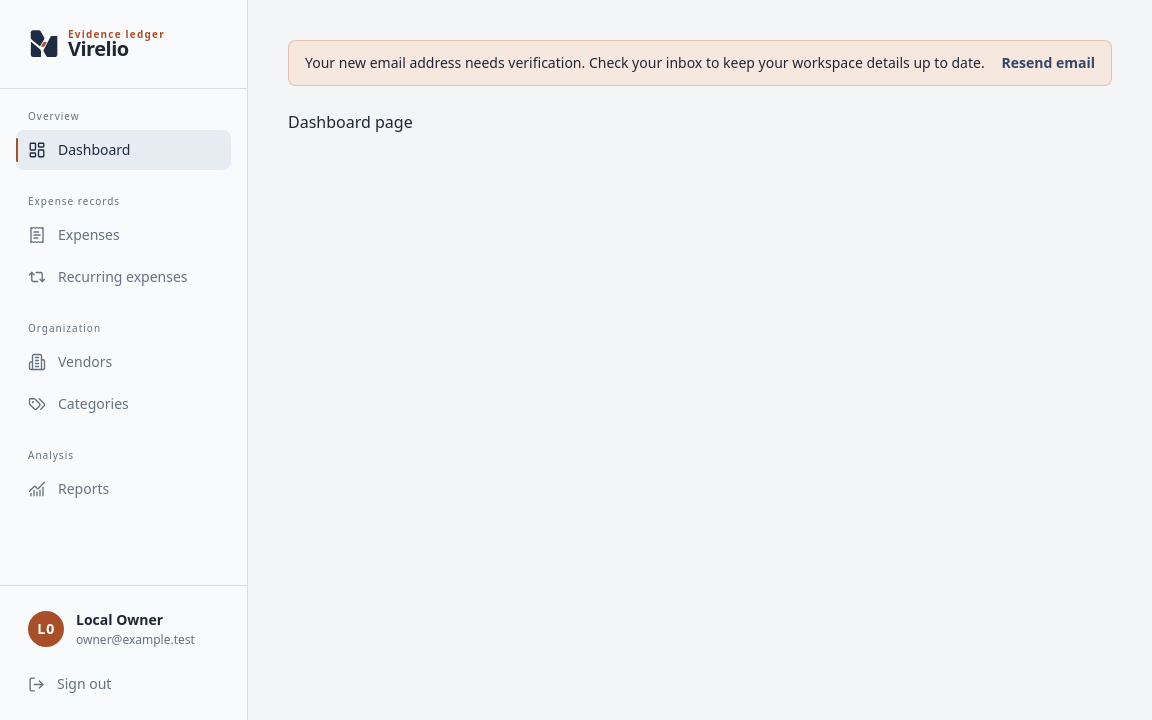
App › reminds users to verify a changed email address
expect the message shows "needs verification": met, box [305,53,985,72]
Click the button "Resend email" at (1048, 63), box [1002,53,1095,73]
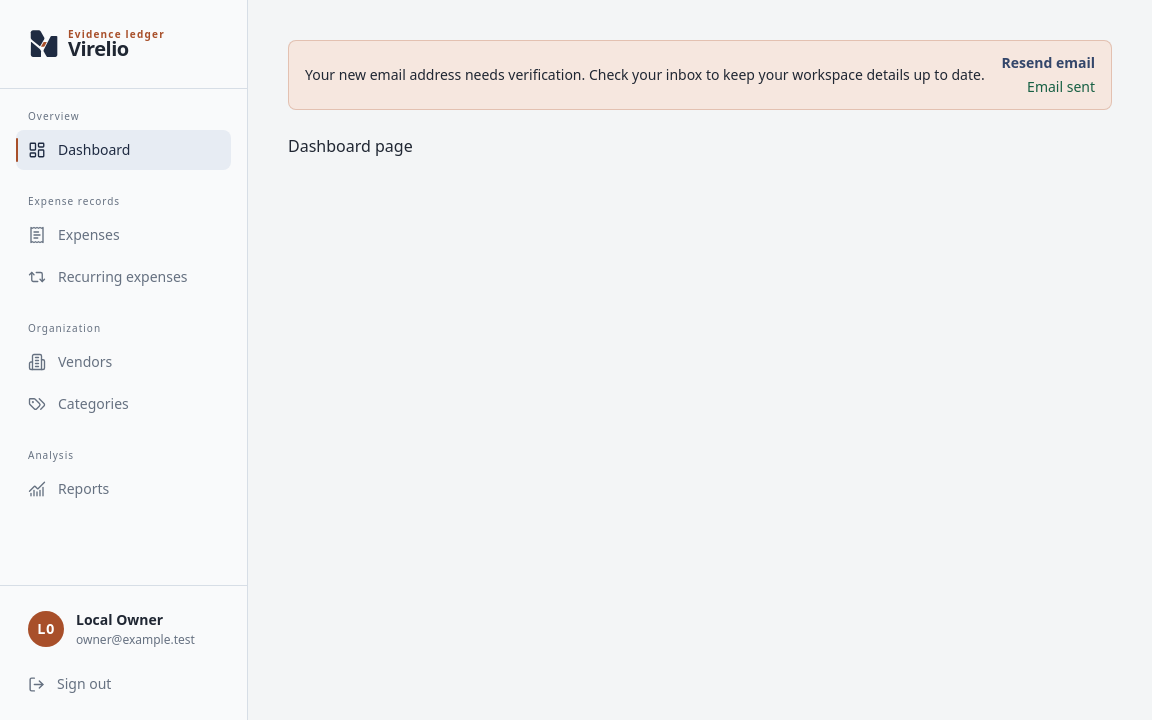
expect the message "Email sent" is shown: met, box [1027,77,1095,97]
